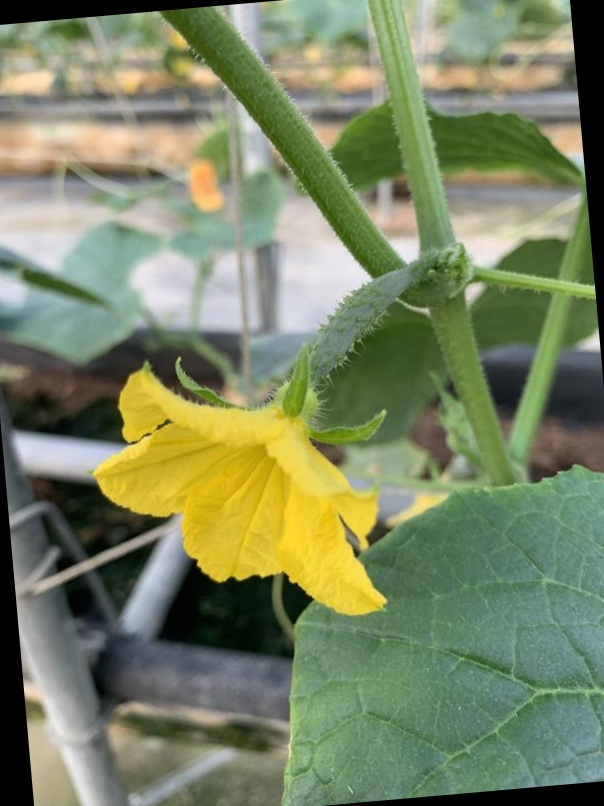flowering: (80, 256, 449, 613)
